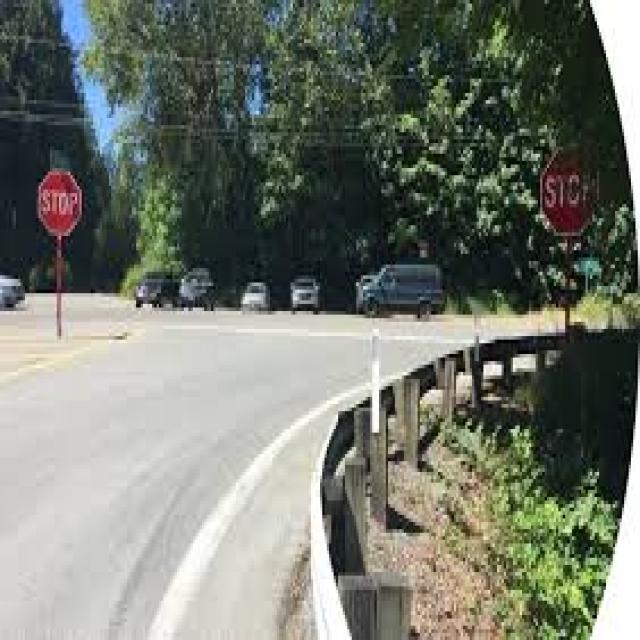stop-sign: (25, 160, 120, 271), (537, 141, 621, 259)
